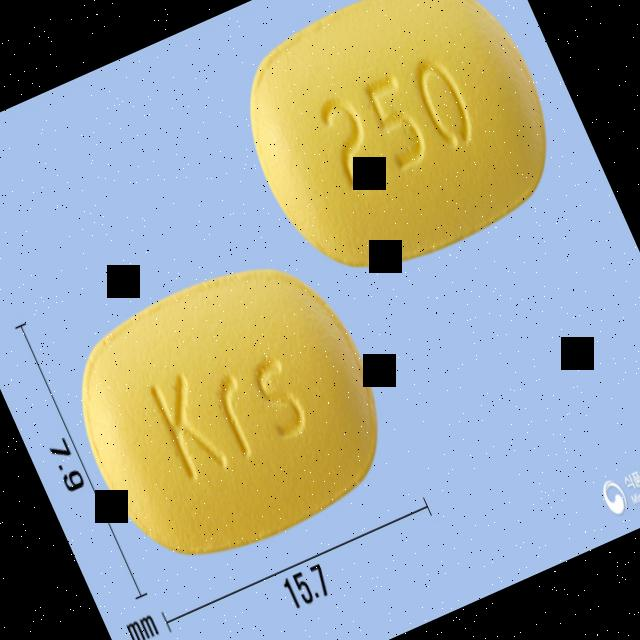Clomicin: (44, 232, 414, 590), (216, 0, 581, 305)
